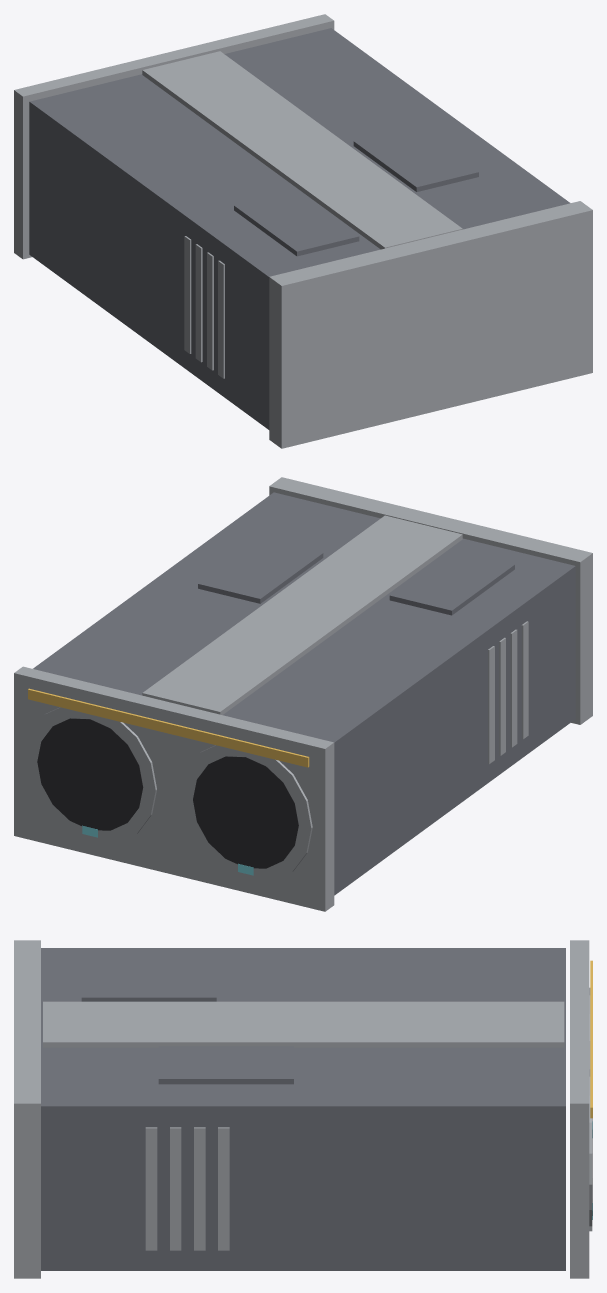
The model's file is bay_twin.glb.
The picture shows the model from 3 angles, top to bottom: view 1: azimuth 30°, elevation 25°; view 2: azimuth 150°, elevation 25°; view 3: azimuth 270°, elevation 25°; orthographic projection. The views are drawn at different scales.
Bounding box in the file's own units: 2 × 1 × 3.
